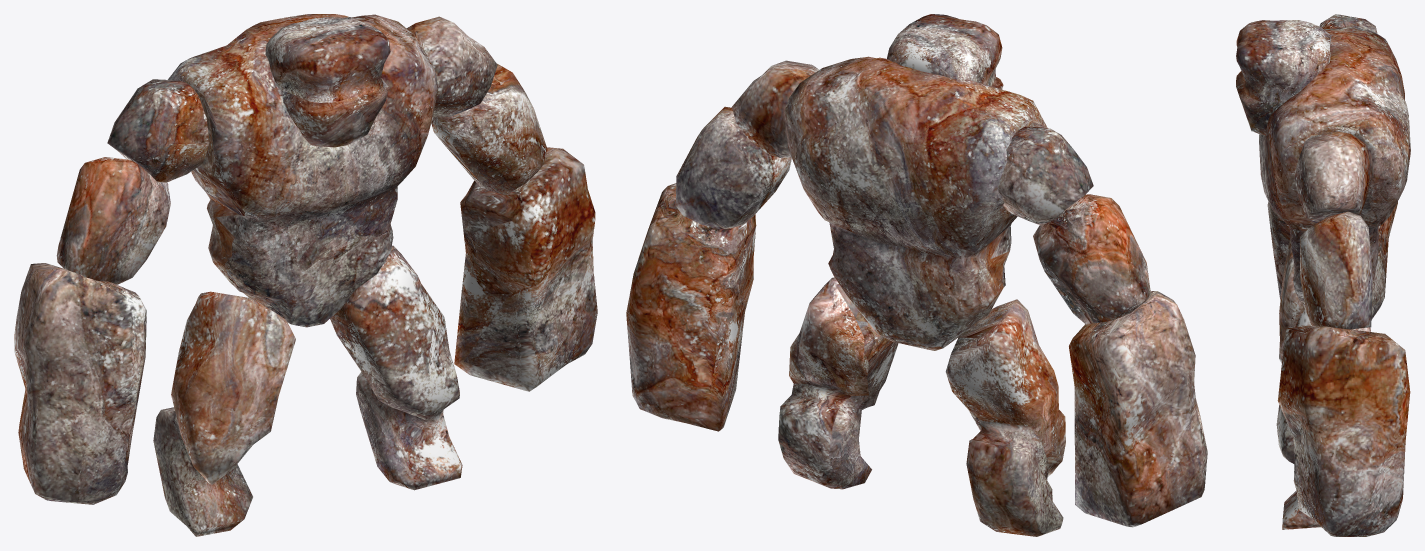
File: golem.obj
The picture shows the model from 3 angles, left to right: view 1: azimuth 30°, elevation 25°; view 2: azimuth 150°, elevation 25°; view 3: azimuth 270°, elevation 25°; orthographic projection. The views are drawn at different scales.
Visible parts, largest first — view 1: hands&leg.001_ice.003, torso.001_ice.005, head.001_ice.004; view 2: hands&leg.001_ice.003, torso.001_ice.005, head.001_ice.004; view 3: hands&leg.001_ice.003, torso.001_ice.005, head.001_ice.004.
Boxes of the visible parts, x1,y1,x2,y2 form: hands&leg.001_ice.003: [14, 16, 597, 536]; torso.001_ice.005: [168, 14, 437, 327]; head.001_ice.004: [265, 17, 390, 147]; hands&leg.001_ice.003: [626, 60, 1207, 536]; torso.001_ice.005: [784, 56, 1047, 350]; head.001_ice.004: [887, 14, 1003, 89]; hands&leg.001_ice.003: [1267, 14, 1410, 536]; torso.001_ice.005: [1259, 25, 1410, 308]; head.001_ice.004: [1236, 20, 1331, 135].
Size of the model in its own units: 4.1 by 3.3 by 1.18.
